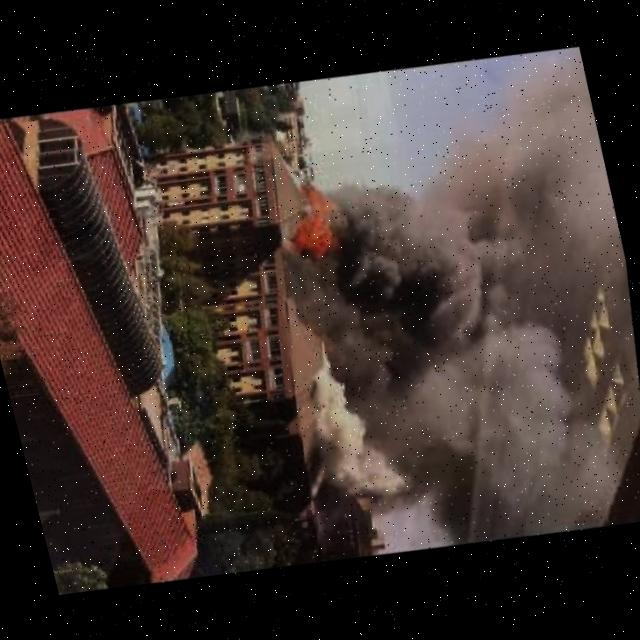fire: (267, 161, 360, 272)
